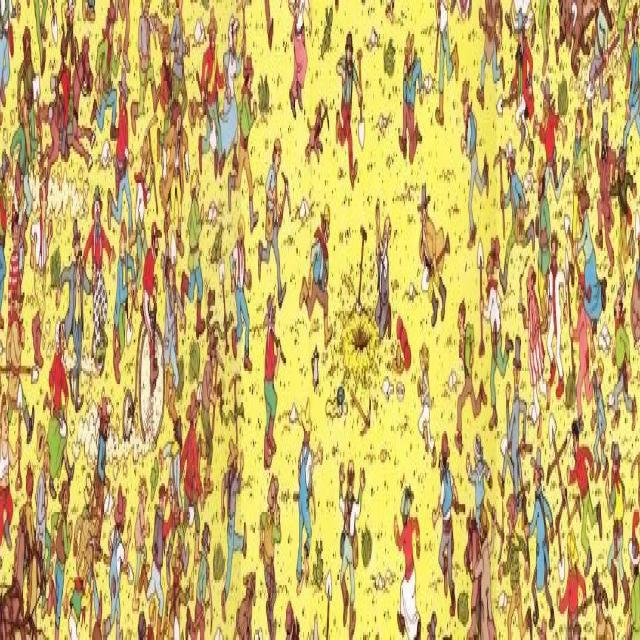waldo: (11, 204, 19, 248)
